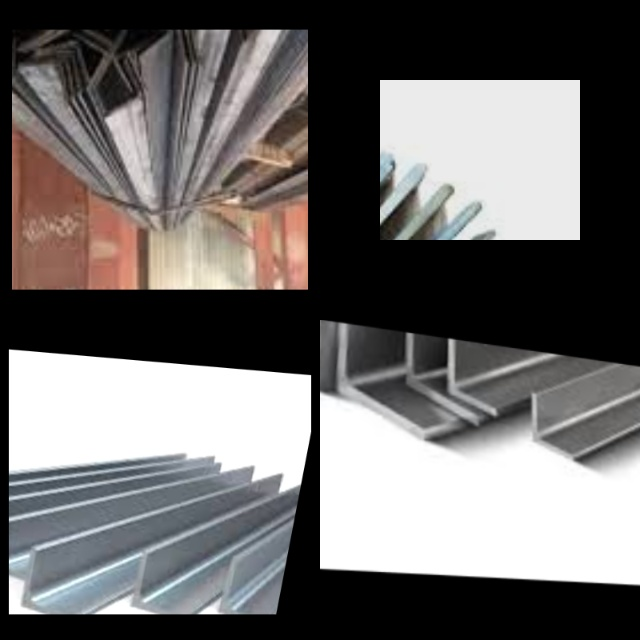Angle: (326, 321, 433, 436), (396, 331, 488, 421), (443, 339, 502, 411), (380, 188, 455, 240), (22, 554, 86, 614), (380, 169, 434, 240), (133, 557, 196, 614), (220, 561, 284, 614), (526, 396, 578, 459), (417, 202, 483, 240), (20, 65, 66, 103), (107, 62, 139, 116), (81, 30, 111, 82), (75, 35, 104, 86), (380, 156, 394, 240), (9, 527, 32, 576)
